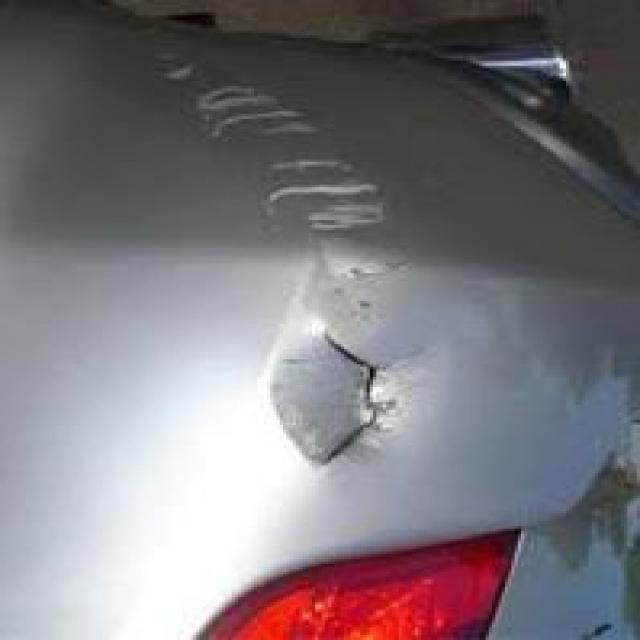scratch: (136, 47, 432, 277)
